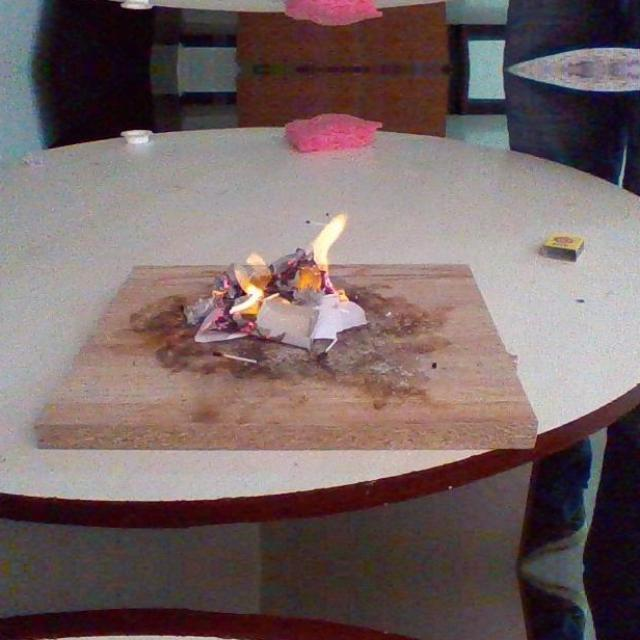smoke: (293, 212, 351, 302), (228, 253, 274, 316)
